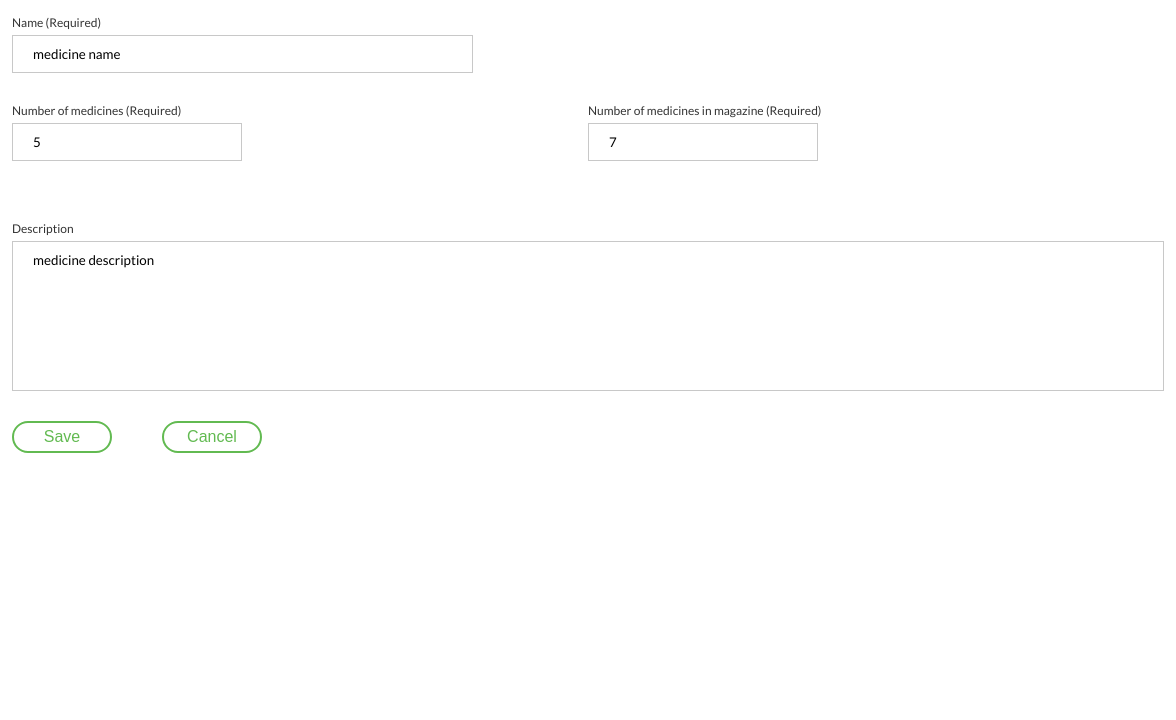
<EditMedicineForm /> › shows error when saves empty required data
The image size is (1176, 720).
Clear the field with placeholder "Medicine name": x=242, y=54 [12, 35, 473, 73]
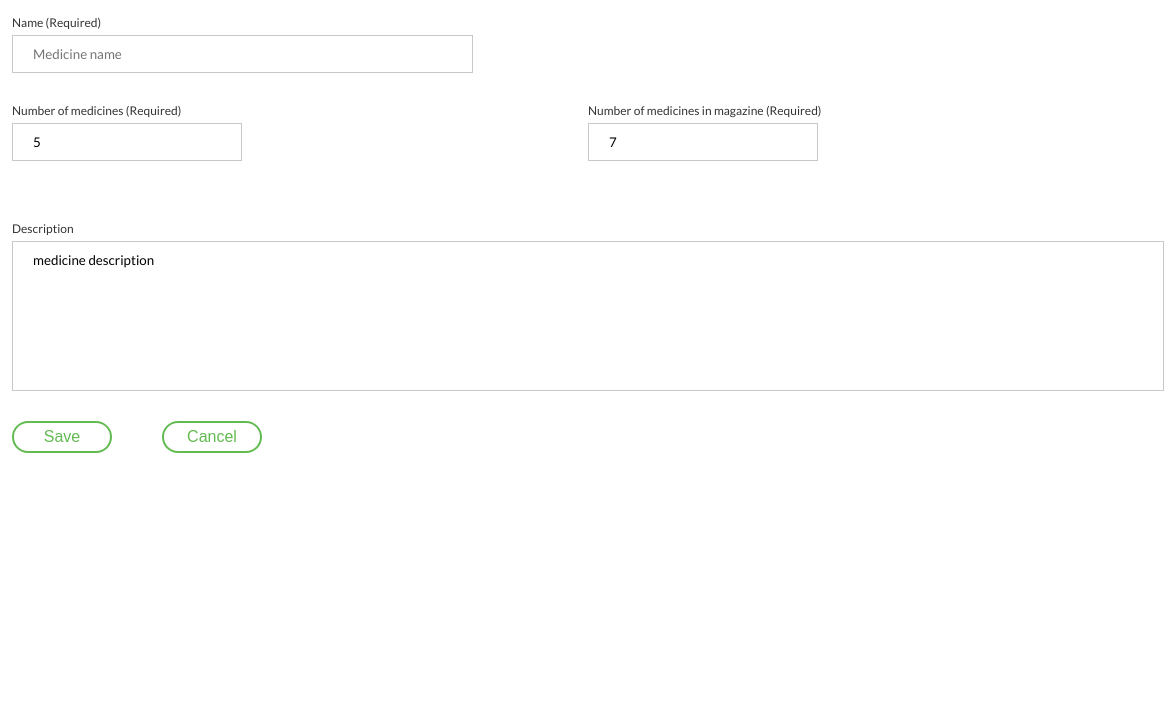
Clear the number field with placeholder "Number of medicines" below "Number of medicines (Required)": x=127, y=142 [12, 123, 242, 161]
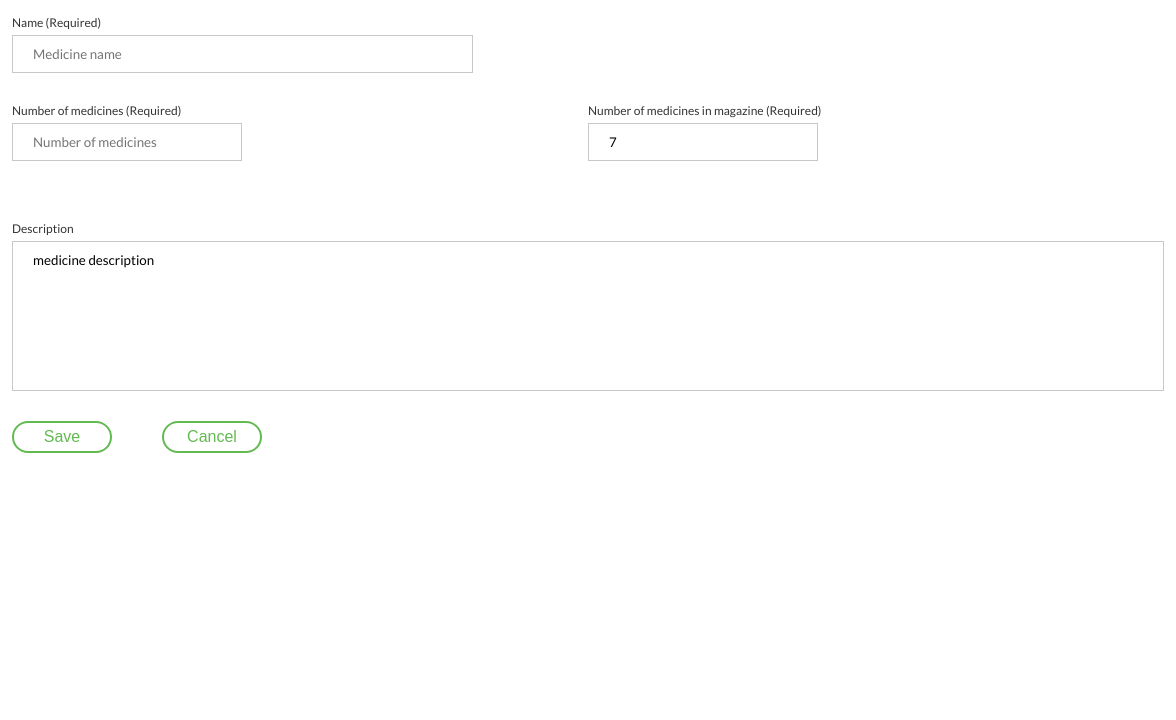
Clear the number field with placeholder "Number of medicines in magazine": x=703, y=142 [588, 123, 818, 161]
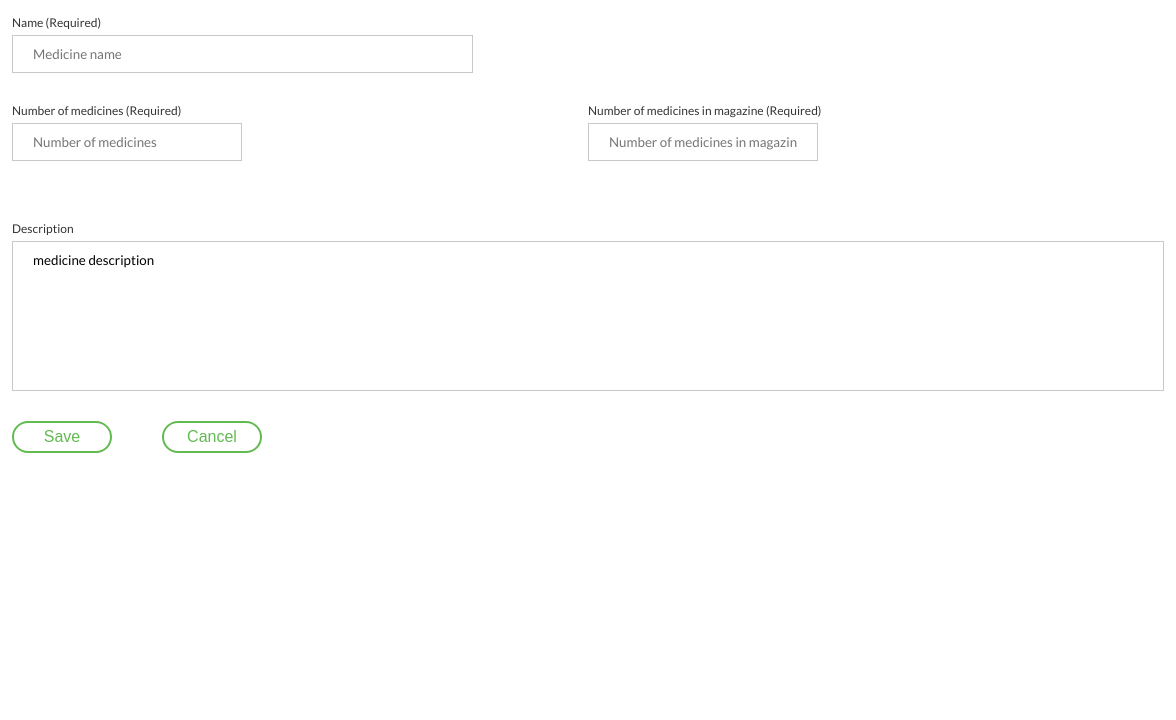
Click the button "Save": x=62, y=437 [12, 421, 112, 453]
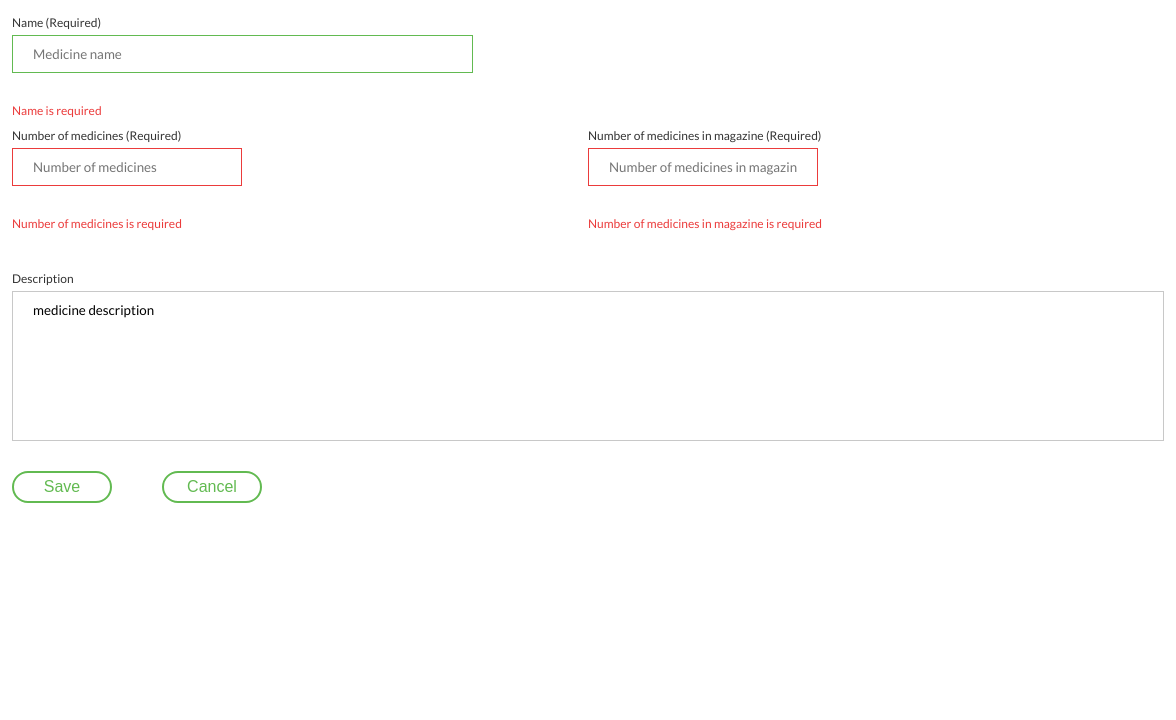
Result: the text "Name is required" is shown at [12, 103, 102, 118]
Result: the text "Number of medicines in magazine is required" is shown at [588, 216, 822, 231]
Result: the text "Number of medicines is required" is shown at [12, 216, 182, 231]
